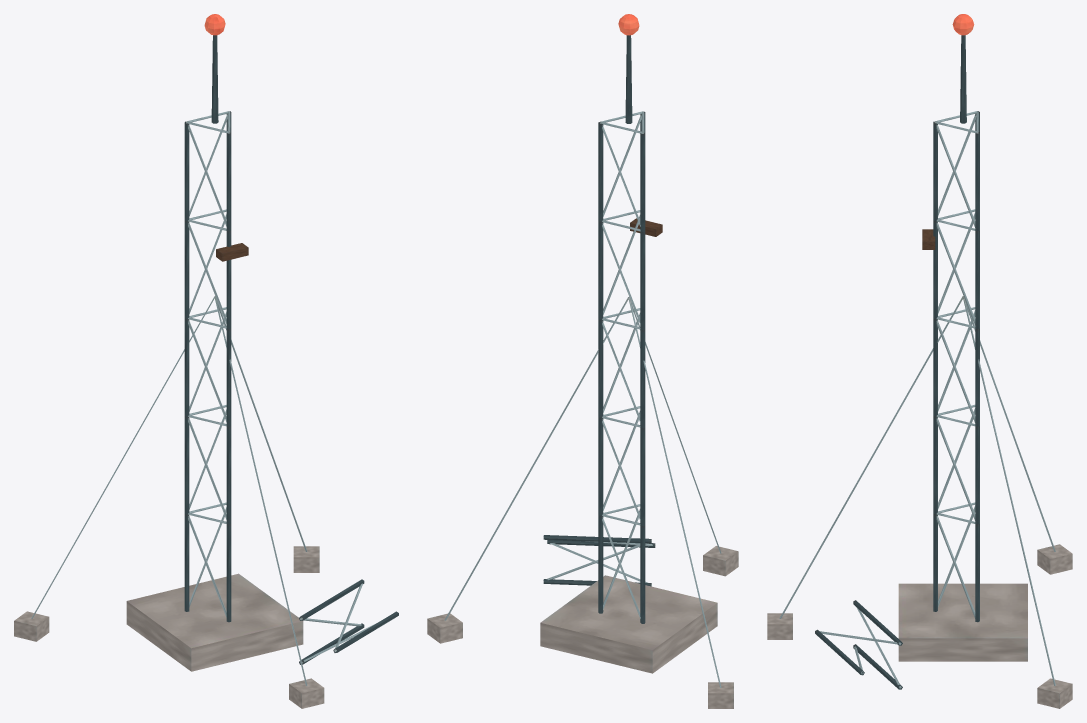
The model's file is prop-now.glb.
3 views of the same model, side by side, from view 1: azimuth 30°, elevation 25°; view 2: azimuth 150°, elevation 25°; view 3: azimuth 270°, elevation 25° (orthographic).
Visible parts, largest first — view 1: geometry_0; view 2: geometry_0; view 3: geometry_0.
Boxes of the visible parts, bbox=[...] form: geometry_0: bbox=[14, 14, 398, 708]; geometry_0: bbox=[427, 14, 738, 708]; geometry_0: bbox=[767, 14, 1072, 708].
Size of the model in its own units: 1.64 by 3.17 by 1.42.
Materials: 1 (1 with a texture image).
